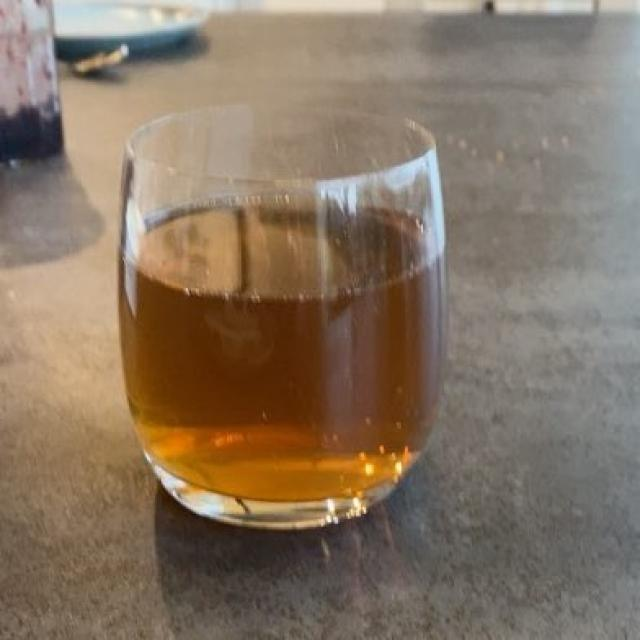ice-tea: (118, 205, 441, 494)
